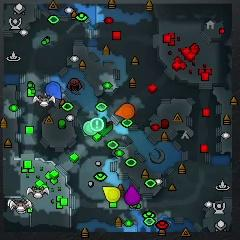p1: (46, 81, 62, 100)
p2: (83, 121, 97, 136)
p3: (124, 185, 141, 205)
p4: (102, 186, 120, 202)
p5: (115, 103, 135, 119)
x4: (98, 117, 113, 136)
